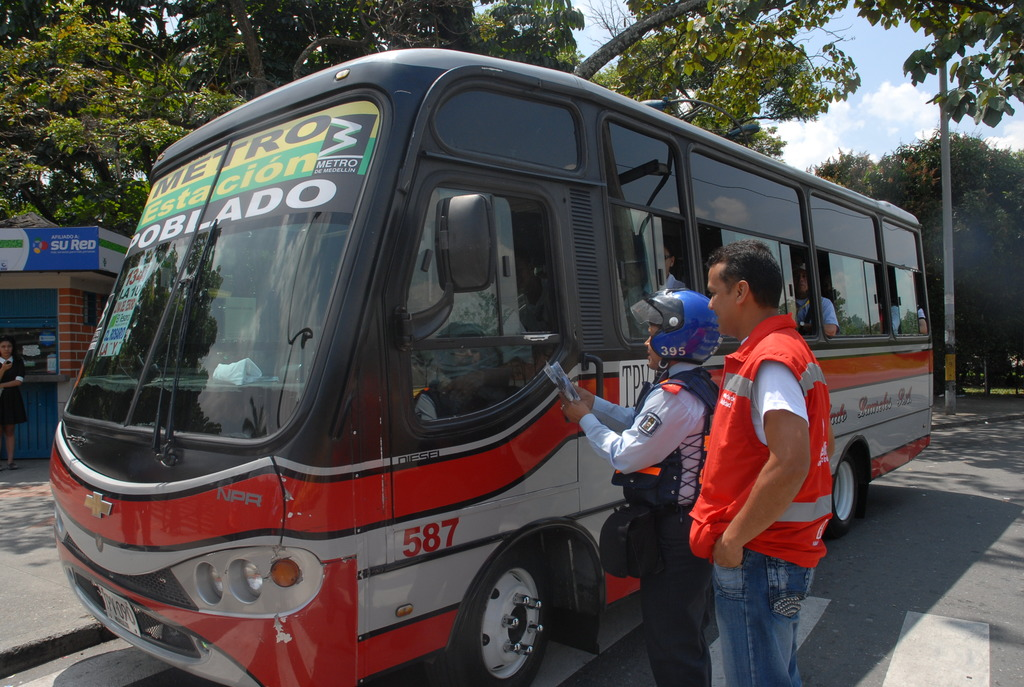Bus: (45, 45, 937, 686)
